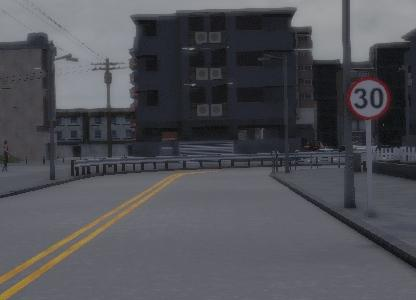Speed_30: (348, 77, 391, 121)
